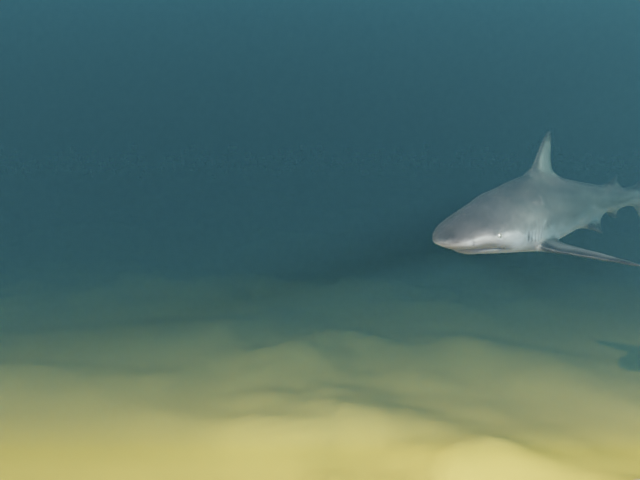Carribean Shark.001: (432, 130, 640, 266)
